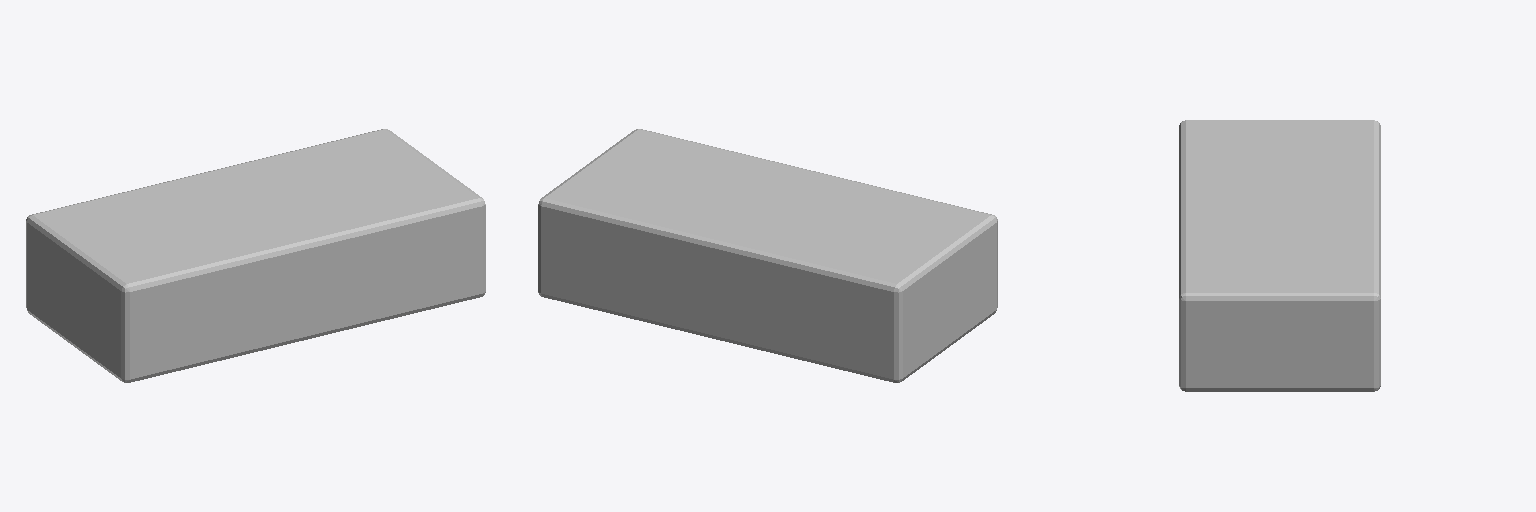
File: Red_Brick.obj
3 views of the same model, side by side, from view 1: azimuth 30°, elevation 25°; view 2: azimuth 150°, elevation 25°; view 3: azimuth 270°, elevation 25° (orthographic).
Visible parts, largest first — view 1: Brick 1 low.001; view 2: Brick 1 low.001; view 3: Brick 1 low.001.
Boxes of the visible parts, x1,y1,x2,y2 form: Brick 1 low.001: [26, 129, 485, 382]; Brick 1 low.001: [538, 129, 997, 382]; Brick 1 low.001: [1179, 120, 1380, 391].
Size of the model in its own units: 0.25 by 0.065 by 0.12.